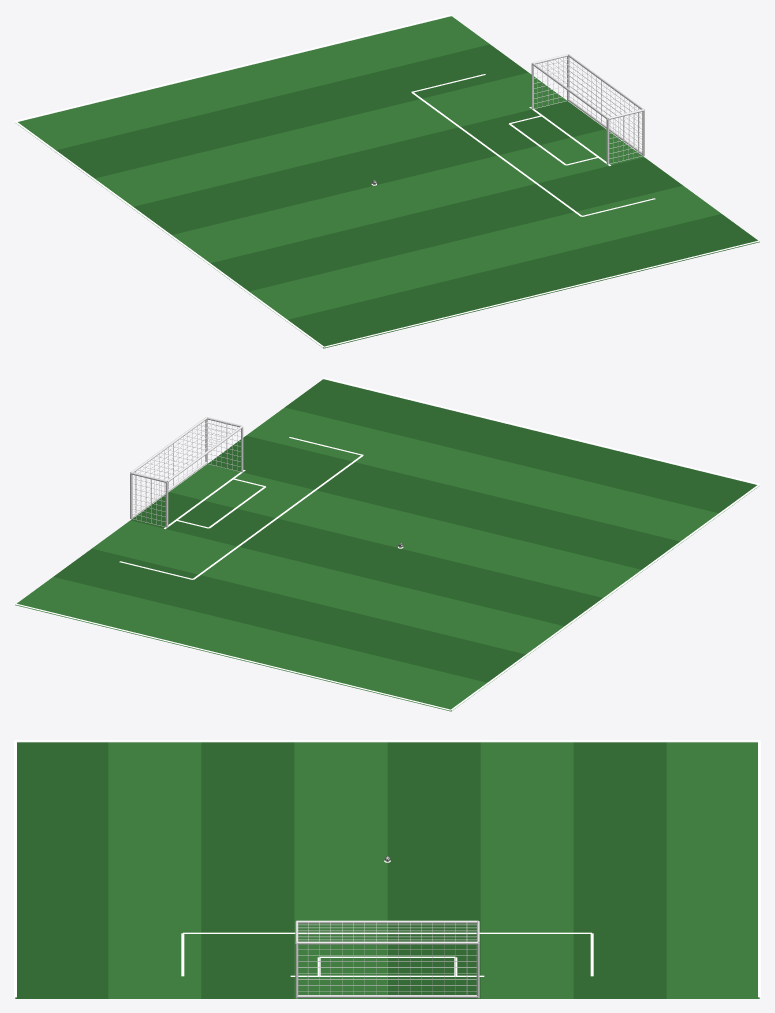
File: football_pitch.glb
3 renders of one model, top to bottom at view 1: azimuth 30°, elevation 25°; view 2: azimuth 150°, elevation 25°; view 3: azimuth 270°, elevation 25°, orthographic. The views are drawn at different scales.
Visible parts, largest first — view 1: Grass7, Grass1, Grass6, Grass2, Grass5, Grass4, Grass0, Grass3, HalfLine, TouchlineR, TouchlineL; view 2: Grass0, Grass6, Grass1, Grass5, Grass2, Grass3, Grass7, Grass4, HalfLine, TouchlineL, TouchlineR; view 3: Grass2, Grass5, Grass1, Grass6, Grass0, Grass7, Grass3, Grass4, HalfLine, PB_Front, TouchlineL, TouchlineR (+3 smaller).
Boxes of the visible parts, <box> form: Grass7: <box>16,16,489,150</box>; Grass1: <box>247,185,721,319</box>; Grass6: <box>54,44,528,178</box>; Grass2: <box>208,157,682,291</box>; Grass5: <box>92,72,566,206</box>; Grass4: <box>131,101,605,234</box>; Grass0: <box>285,214,759,348</box>; Grass3: <box>170,129,643,263</box>; HalfLine: <box>14,121,323,347</box>; TouchlineR: <box>15,14,451,121</box>; TouchlineL: <box>323,240,760,347</box>; Grass0: <box>285,379,758,513</box>; Grass6: <box>53,548,527,682</box>; Grass1: <box>246,407,720,541</box>; Grass5: <box>92,520,566,654</box>; Grass2: <box>208,435,682,569</box>; Grass3: <box>169,464,643,597</box>; Grass7: <box>15,577,489,711</box>; Grass4: <box>131,492,604,626</box>; HalfLine: <box>451,484,760,710</box>; TouchlineL: <box>323,377,759,484</box>; TouchlineR: <box>14,603,451,710</box>; Grass2: <box>201,742,294,998</box>; Grass5: <box>480,742,573,998</box>; Grass1: <box>108,742,201,998</box>; Grass6: <box>573,742,666,998</box>; Grass0: <box>15,742,108,998</box>; Grass7: <box>666,742,759,998</box>; Grass3: <box>294,742,387,998</box>; Grass4: <box>387,742,480,998</box>; HalfLine: <box>15,740,759,741</box>; PB_Front: <box>183,932,591,933</box>; TouchlineL: <box>14,740,16,997</box>; TouchlineR: <box>758,740,760,997</box>.
Size of the model in its own units: 24.62 by 2.55 by 30.12.
Materials: 6 (1 with a texture image).
